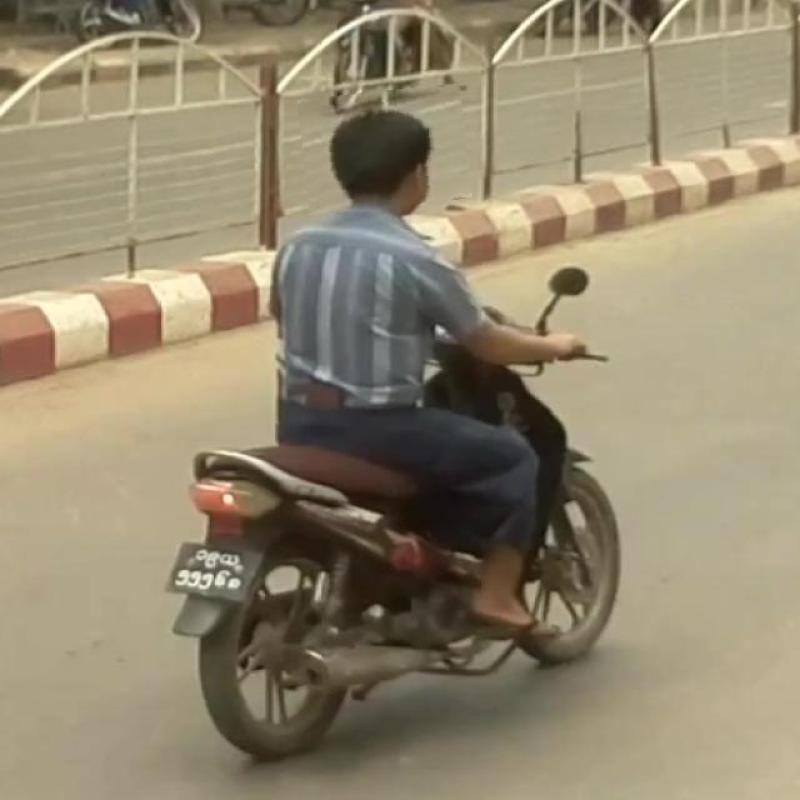nohelmet: (300, 87, 470, 211)
